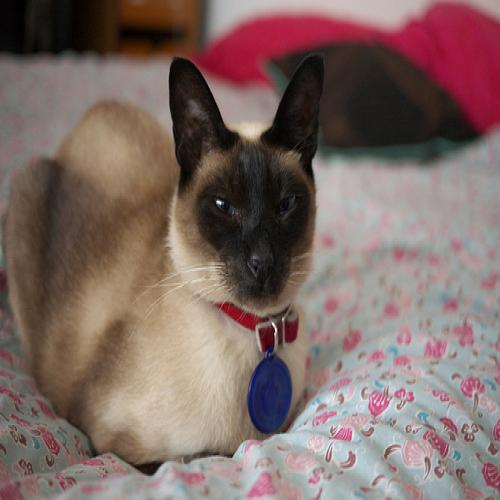siamese: (158, 38, 346, 334)
